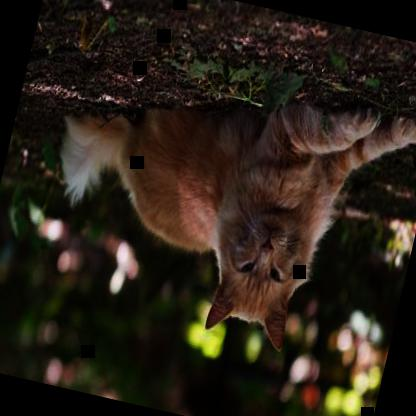cat: (26, 40, 415, 373)
